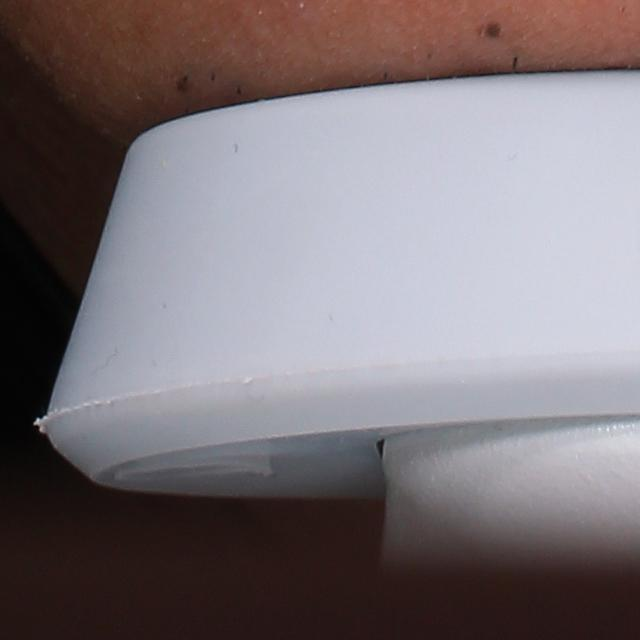nevus: (480, 13, 507, 42), (173, 69, 195, 94)
